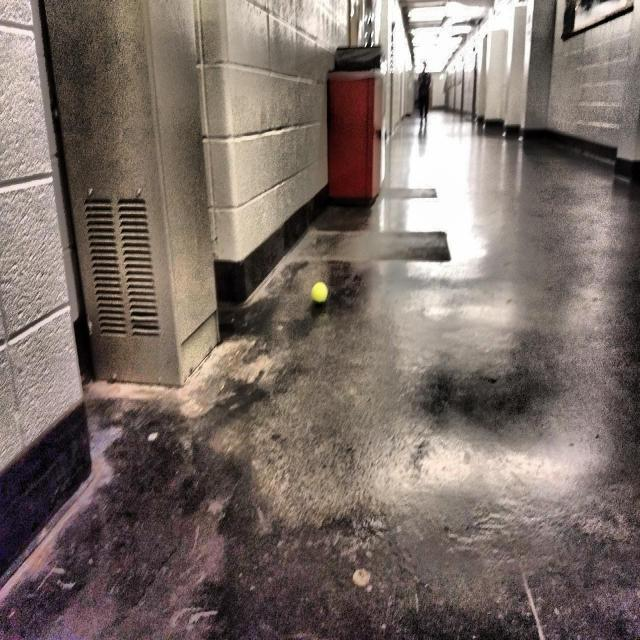tennis-ball: (308, 277, 330, 311)
